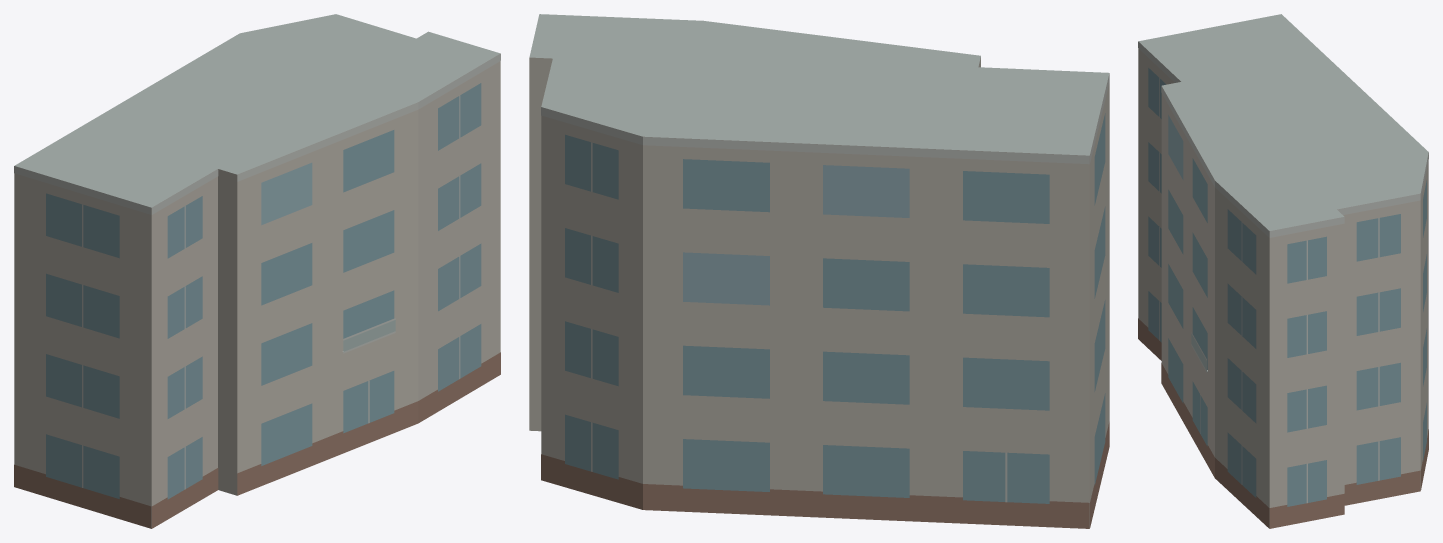
File: survey-upis-32615350.glb
3 renders of one model, left to right at view 1: azimuth 30°, elevation 25°; view 2: azimuth 150°, elevation 25°; view 3: azimuth 270°, elevation 25°, orthographic. The views are drawn at different scales.
Visible parts, largest first — view 1: survey-upis-32615350.tmp; view 2: survey-upis-32615350.tmp; view 3: survey-upis-32615350.tmp.
Part boxes in pixels (x1,y1,x2,y2): survey-upis-32615350.tmp: (14,14,500,528); survey-upis-32615350.tmp: (529,14,1109,528); survey-upis-32615350.tmp: (1138,14,1428,528).
Bounding box in the file's own units: 16.59 × 10.6 × 9.39.
